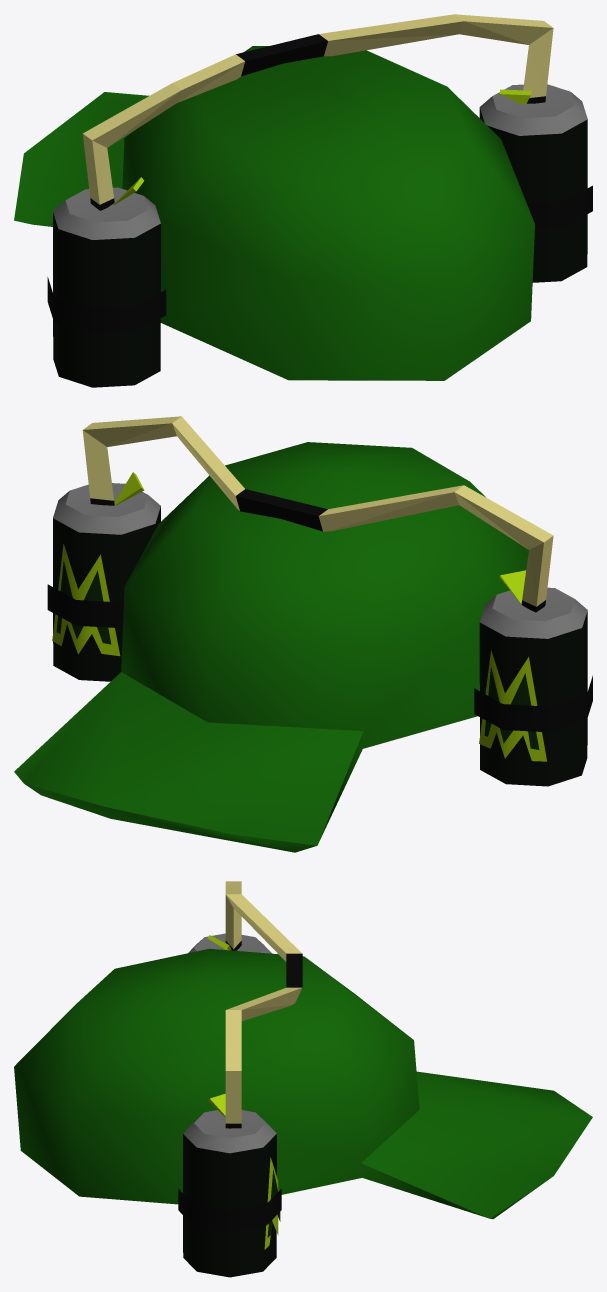
The model's file is hat_drinkdew.glb.
The picture shows the model from 3 angles, top to bottom: view 1: azimuth 30°, elevation 25°; view 2: azimuth 150°, elevation 25°; view 3: azimuth 270°, elevation 25°; orthographic projection. The views are drawn at different scales.
Visible parts, largest first — view 1: hat_drinkdew; view 2: hat_drinkdew; view 3: hat_drinkdew.
Boxes of the visible parts, left/top/right/bottom form: hat_drinkdew: left=14, top=14, right=592, bottom=387; hat_drinkdew: left=14, top=416, right=592, bottom=852; hat_drinkdew: left=14, top=881, right=592, bottom=1277.
Size of the model in its own units: 0.4407 by 0.2104 by 0.4929.
